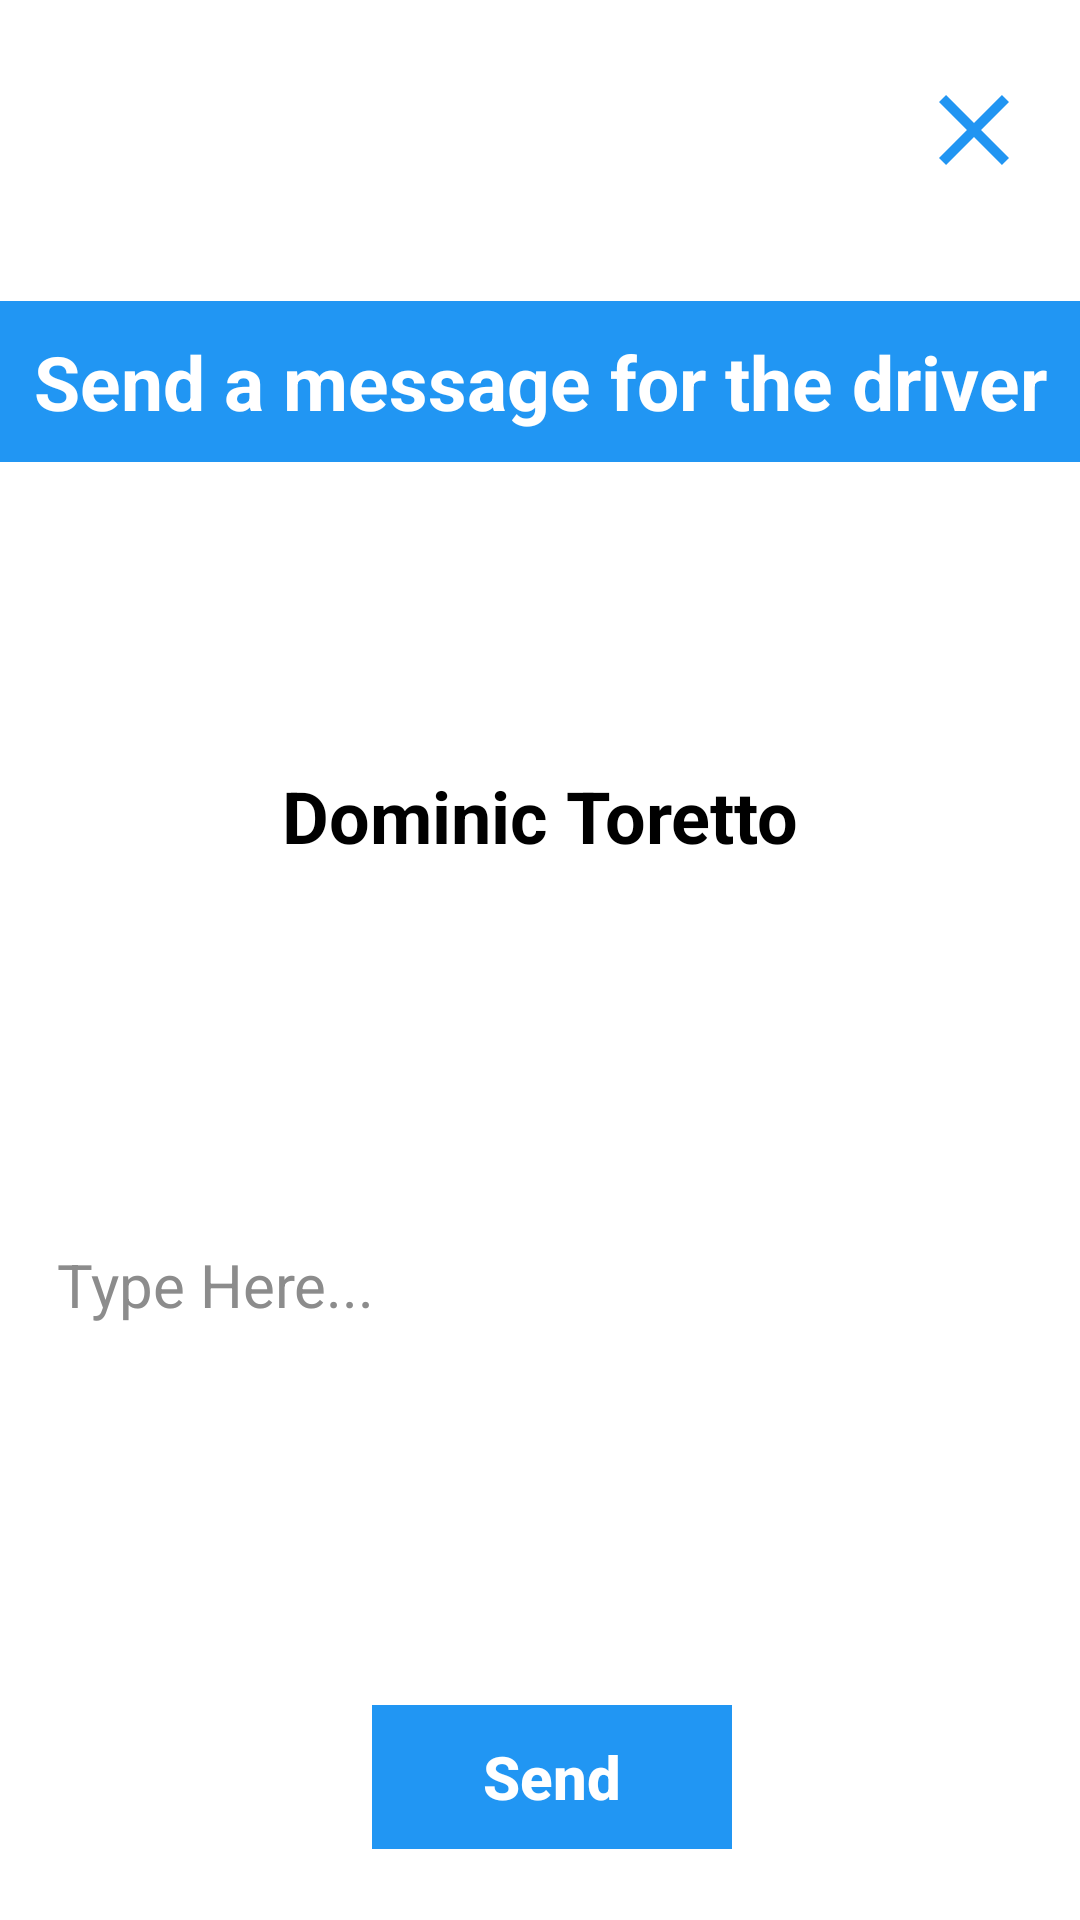

Named icons in this screenshot (1080px×1920px) and their centers, (x=x, y=y):
close: (x=974, y=130)
